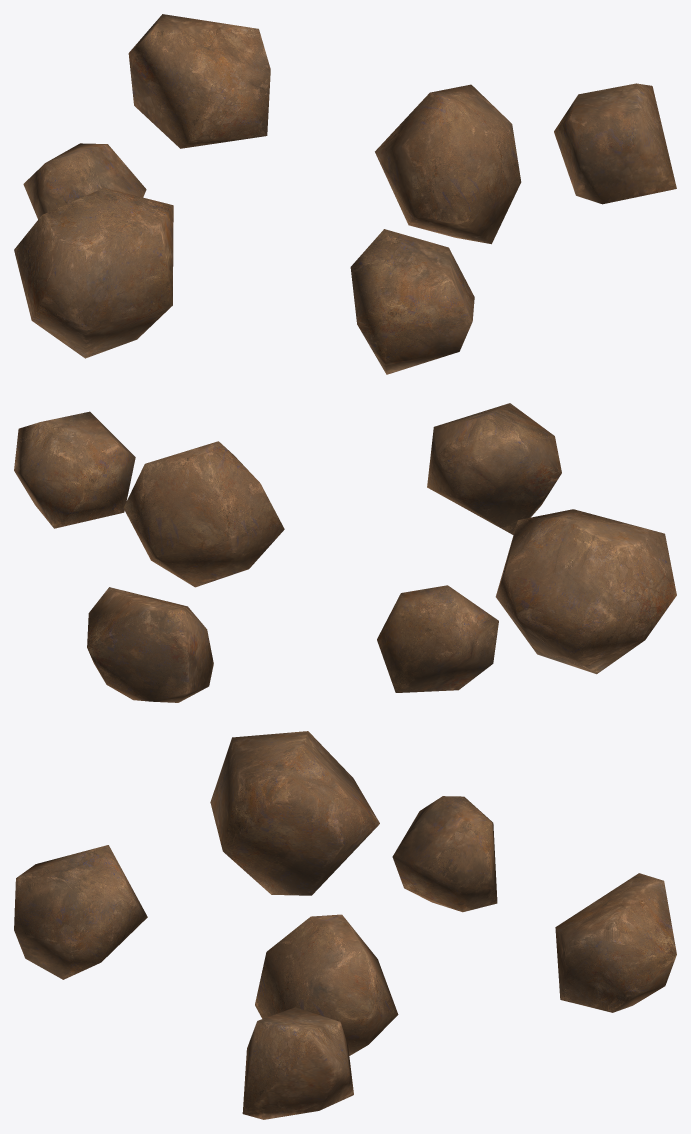
File: Stones_Tiny1.fbx
3 renders of one model, top to bottom at view 1: azimuth 30°, elevation 25°; view 2: azimuth 150°, elevation 25°; view 3: azimuth 270°, elevation 25°, orthographic. The views are drawn at different scales.
Parts seen in each view (by area): view 1: polySurface220; view 2: polySurface220; view 3: polySurface220.
Part boxes in pixels (left/top/right/bottom): polySurface220: left=14, top=14, right=676, bottom=374; polySurface220: left=14, top=403, right=676, bottom=702; polySurface220: left=14, top=731, right=676, bottom=1119.
Size of the model in its own units: 27.78 by 6.53 by 25.18.
